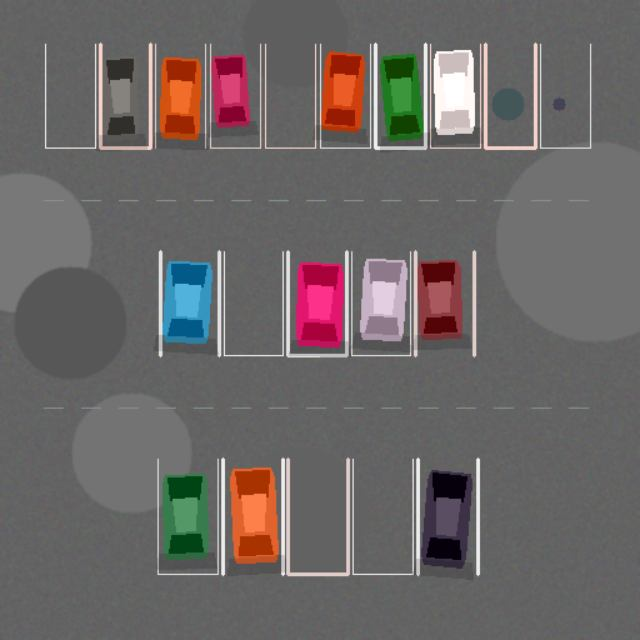space-empty: (288, 459, 348, 574), (352, 459, 412, 574), (224, 251, 283, 355), (45, 44, 95, 147), (265, 44, 315, 147), (485, 44, 535, 147), (540, 44, 590, 147)
space-occupied: (158, 459, 218, 574), (222, 459, 282, 574), (418, 459, 478, 574), (160, 251, 219, 355), (287, 251, 346, 355), (351, 251, 410, 355), (415, 251, 474, 355), (100, 44, 150, 147), (155, 44, 205, 147), (210, 44, 260, 147), (320, 44, 370, 147), (375, 44, 425, 147), (430, 44, 480, 147)
